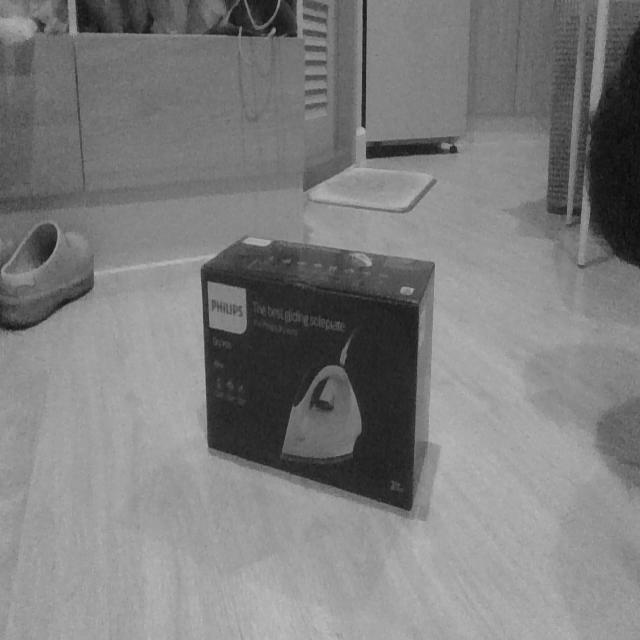IRON: (198, 230, 437, 518)
